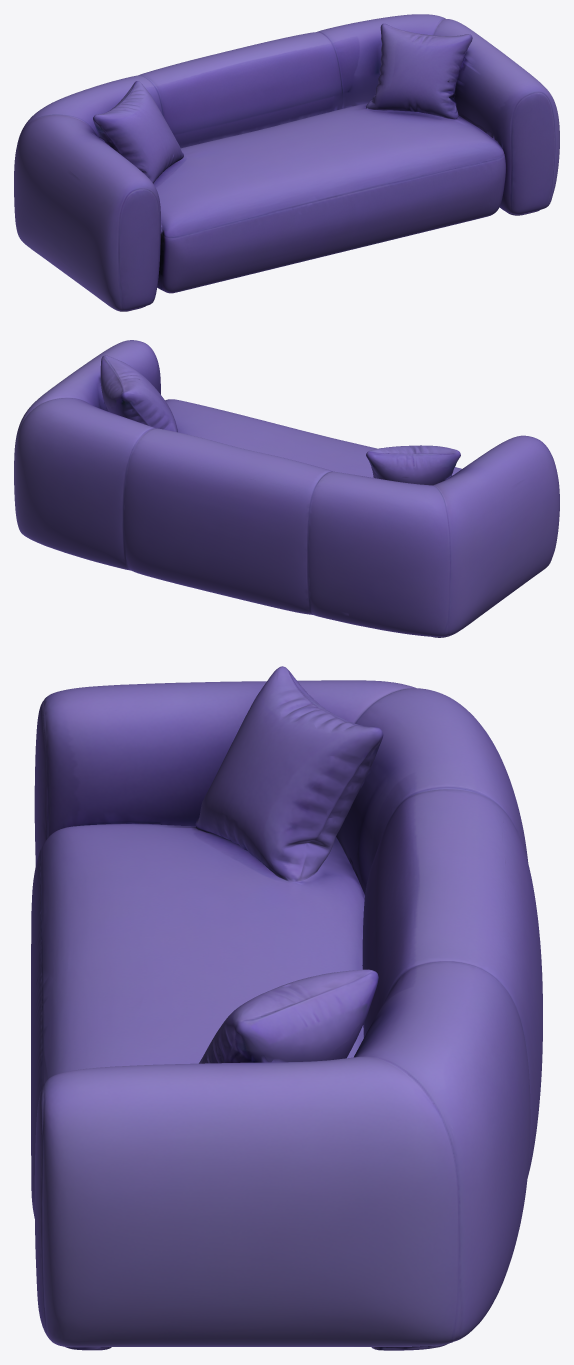
The model's file is room1-sofa-r16.glb.
The picture shows the model from 3 angles, top to bottom: view 1: azimuth 30°, elevation 25°; view 2: azimuth 150°, elevation 25°; view 3: azimuth 270°, elevation 25°; orthographic projection. The views are drawn at different scales.
Visible parts, largest first — view 1: node_0; view 2: node_0; view 3: node_0.
Boxes of the visible parts, left/top/right/bottom form: node_0: left=14, top=14, right=559, bottom=311; node_0: left=14, top=340, right=559, bottom=637; node_0: left=31, top=666, right=542, bottom=1350.
Bounding box in the file's own units: 1.12 × 0.349 × 0.5349.
Materials: 1 (1 with a texture image).
